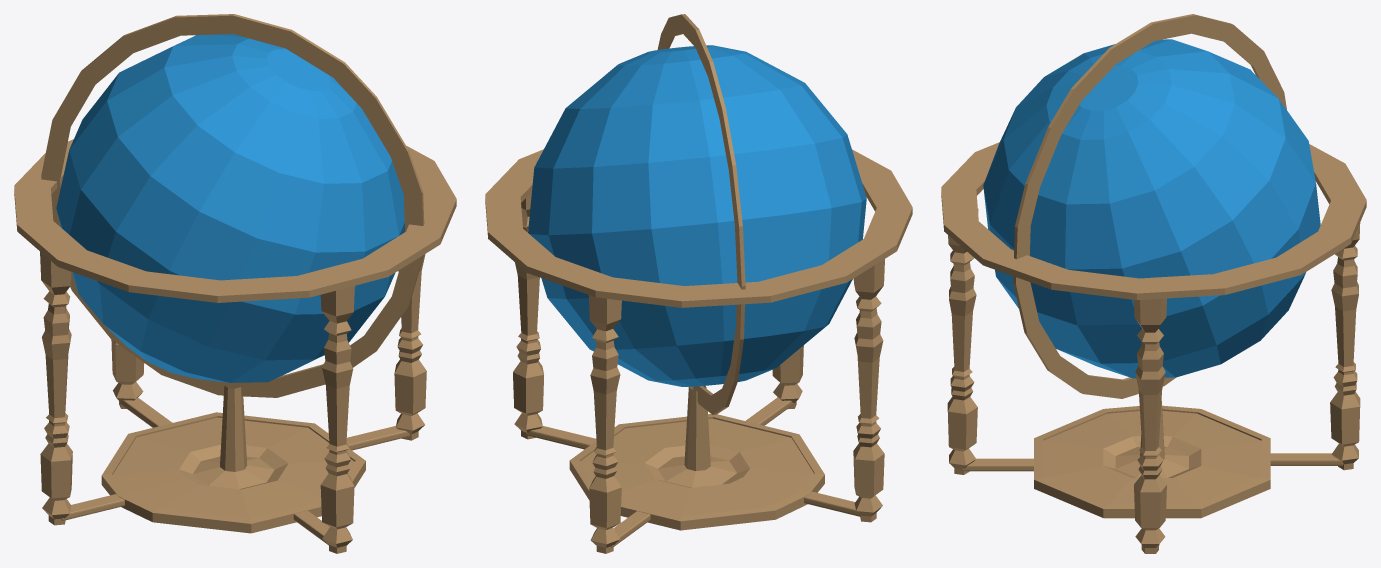
The model's file is mod_globe (1).fbx.
The picture shows the model from 3 angles, left to right: view 1: azimuth 30°, elevation 25°; view 2: azimuth 150°, elevation 25°; view 3: azimuth 270°, elevation 25°; orthographic projection. The views are drawn at different scales.
Parts seen in each view (by area): view 1: mod_globe; view 2: mod_globe; view 3: mod_globe.
Part boxes in pixels (x1=…): mod_globe: x1=14, y1=14, x2=456, y2=553; mod_globe: x1=485, y1=14, x2=912, y2=553; mod_globe: x1=941, y1=14, x2=1366, y2=553.
Bounding box in the file's own units: 51.08 × 58.93 × 50.97.
